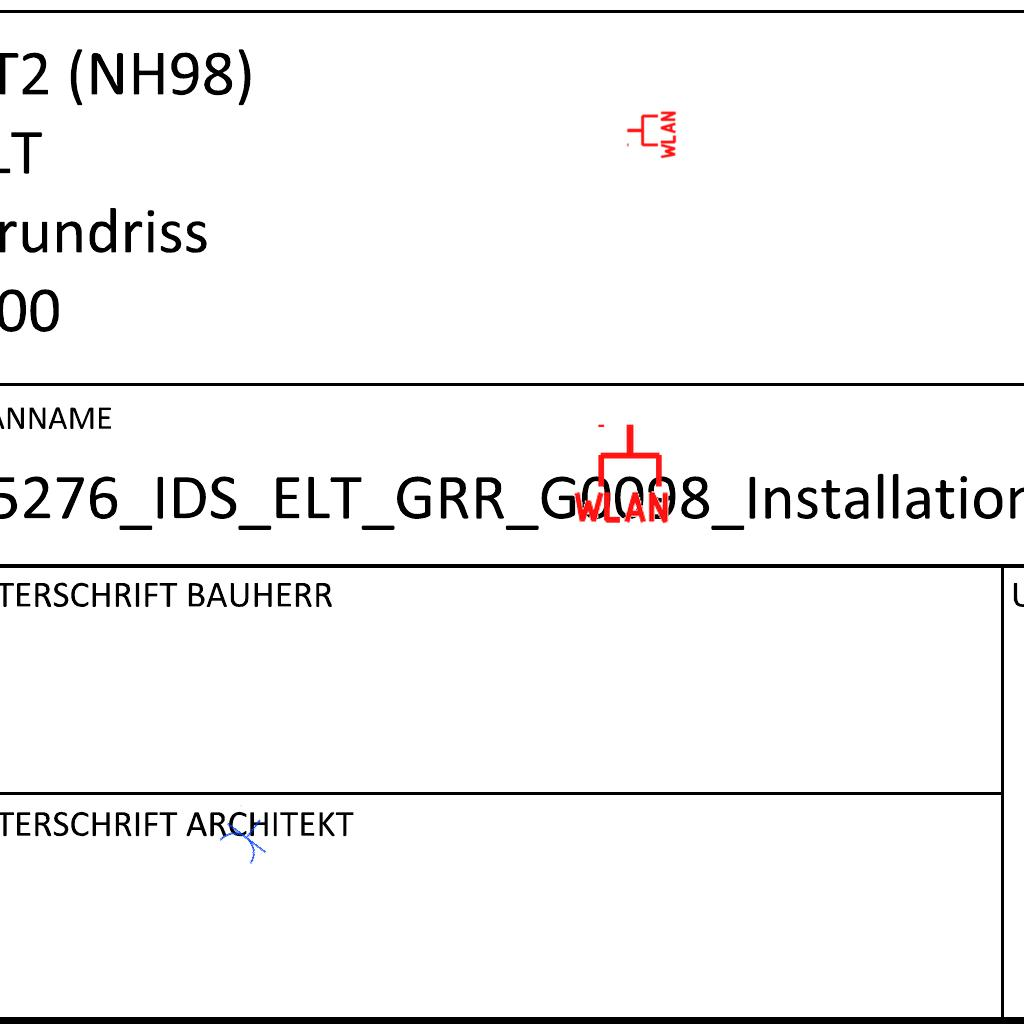Schukosteckdose_einfach: (214, 804, 280, 869)
WLAN: (569, 420, 673, 525), (625, 109, 677, 161)
